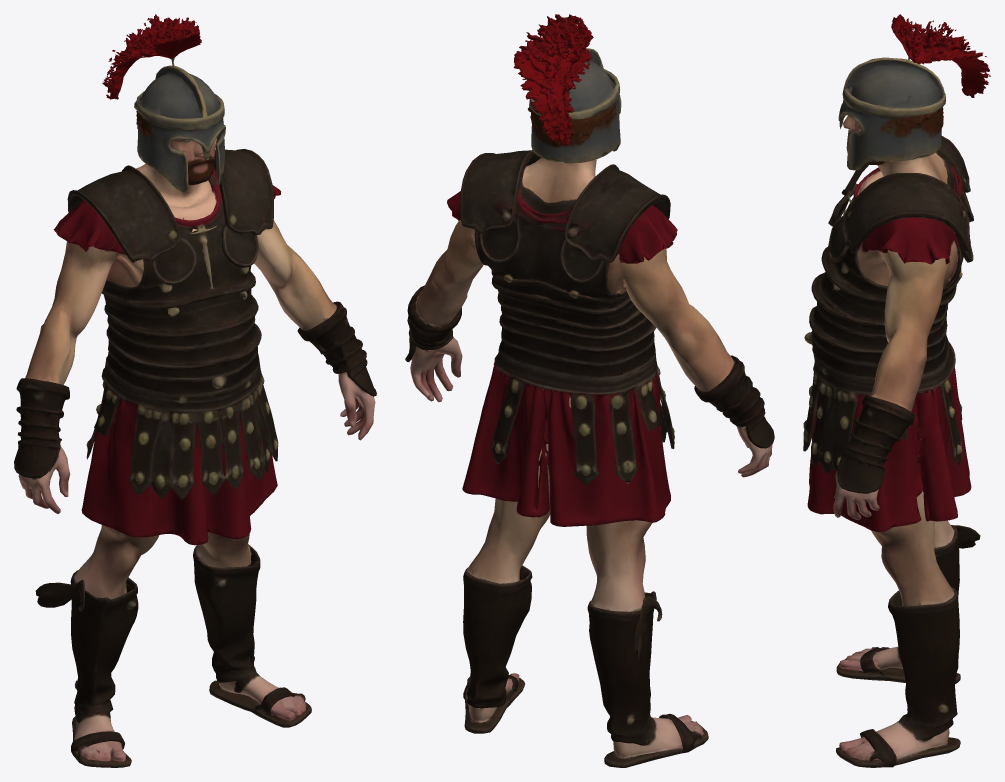
File: legionary-r1536.glb
The picture shows the model from 3 angles, left to right: view 1: azimuth 30°, elevation 25°; view 2: azimuth 150°, elevation 25°; view 3: azimuth 270°, elevation 25°; orthographic projection. The views are drawn at different scales.
Visible parts, largest first — view 1: world; view 2: world; view 3: world.
Part boxes in pixels (x1,y1,x2,y2): world: (14,14,376,767); world: (405,14,774,767); world: (803,14,990,767).
Bounding box in the file's own units: 0.5247 × 0.9924 × 0.2411.
Materials: 1 (1 with a texture image).
